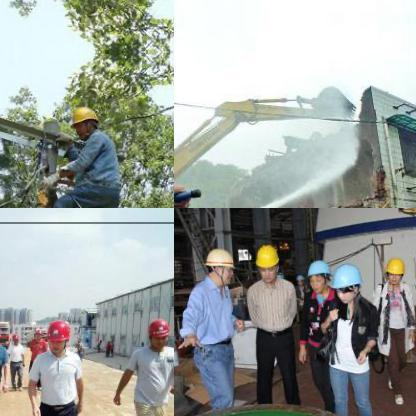Helmet: (202, 244, 236, 282), (330, 262, 362, 302), (252, 240, 280, 280), (70, 103, 100, 137), (43, 318, 71, 352), (142, 314, 170, 348), (304, 256, 330, 292), (382, 252, 405, 286), (32, 326, 42, 340), (10, 332, 20, 344)
